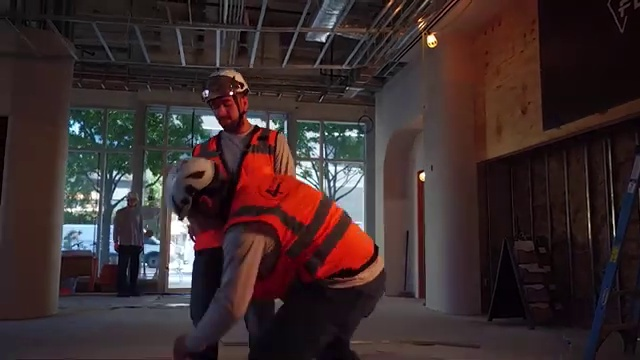helmet: (165, 156, 221, 220), (197, 67, 253, 101)
jacket: (228, 176, 379, 289), (194, 130, 300, 176)
